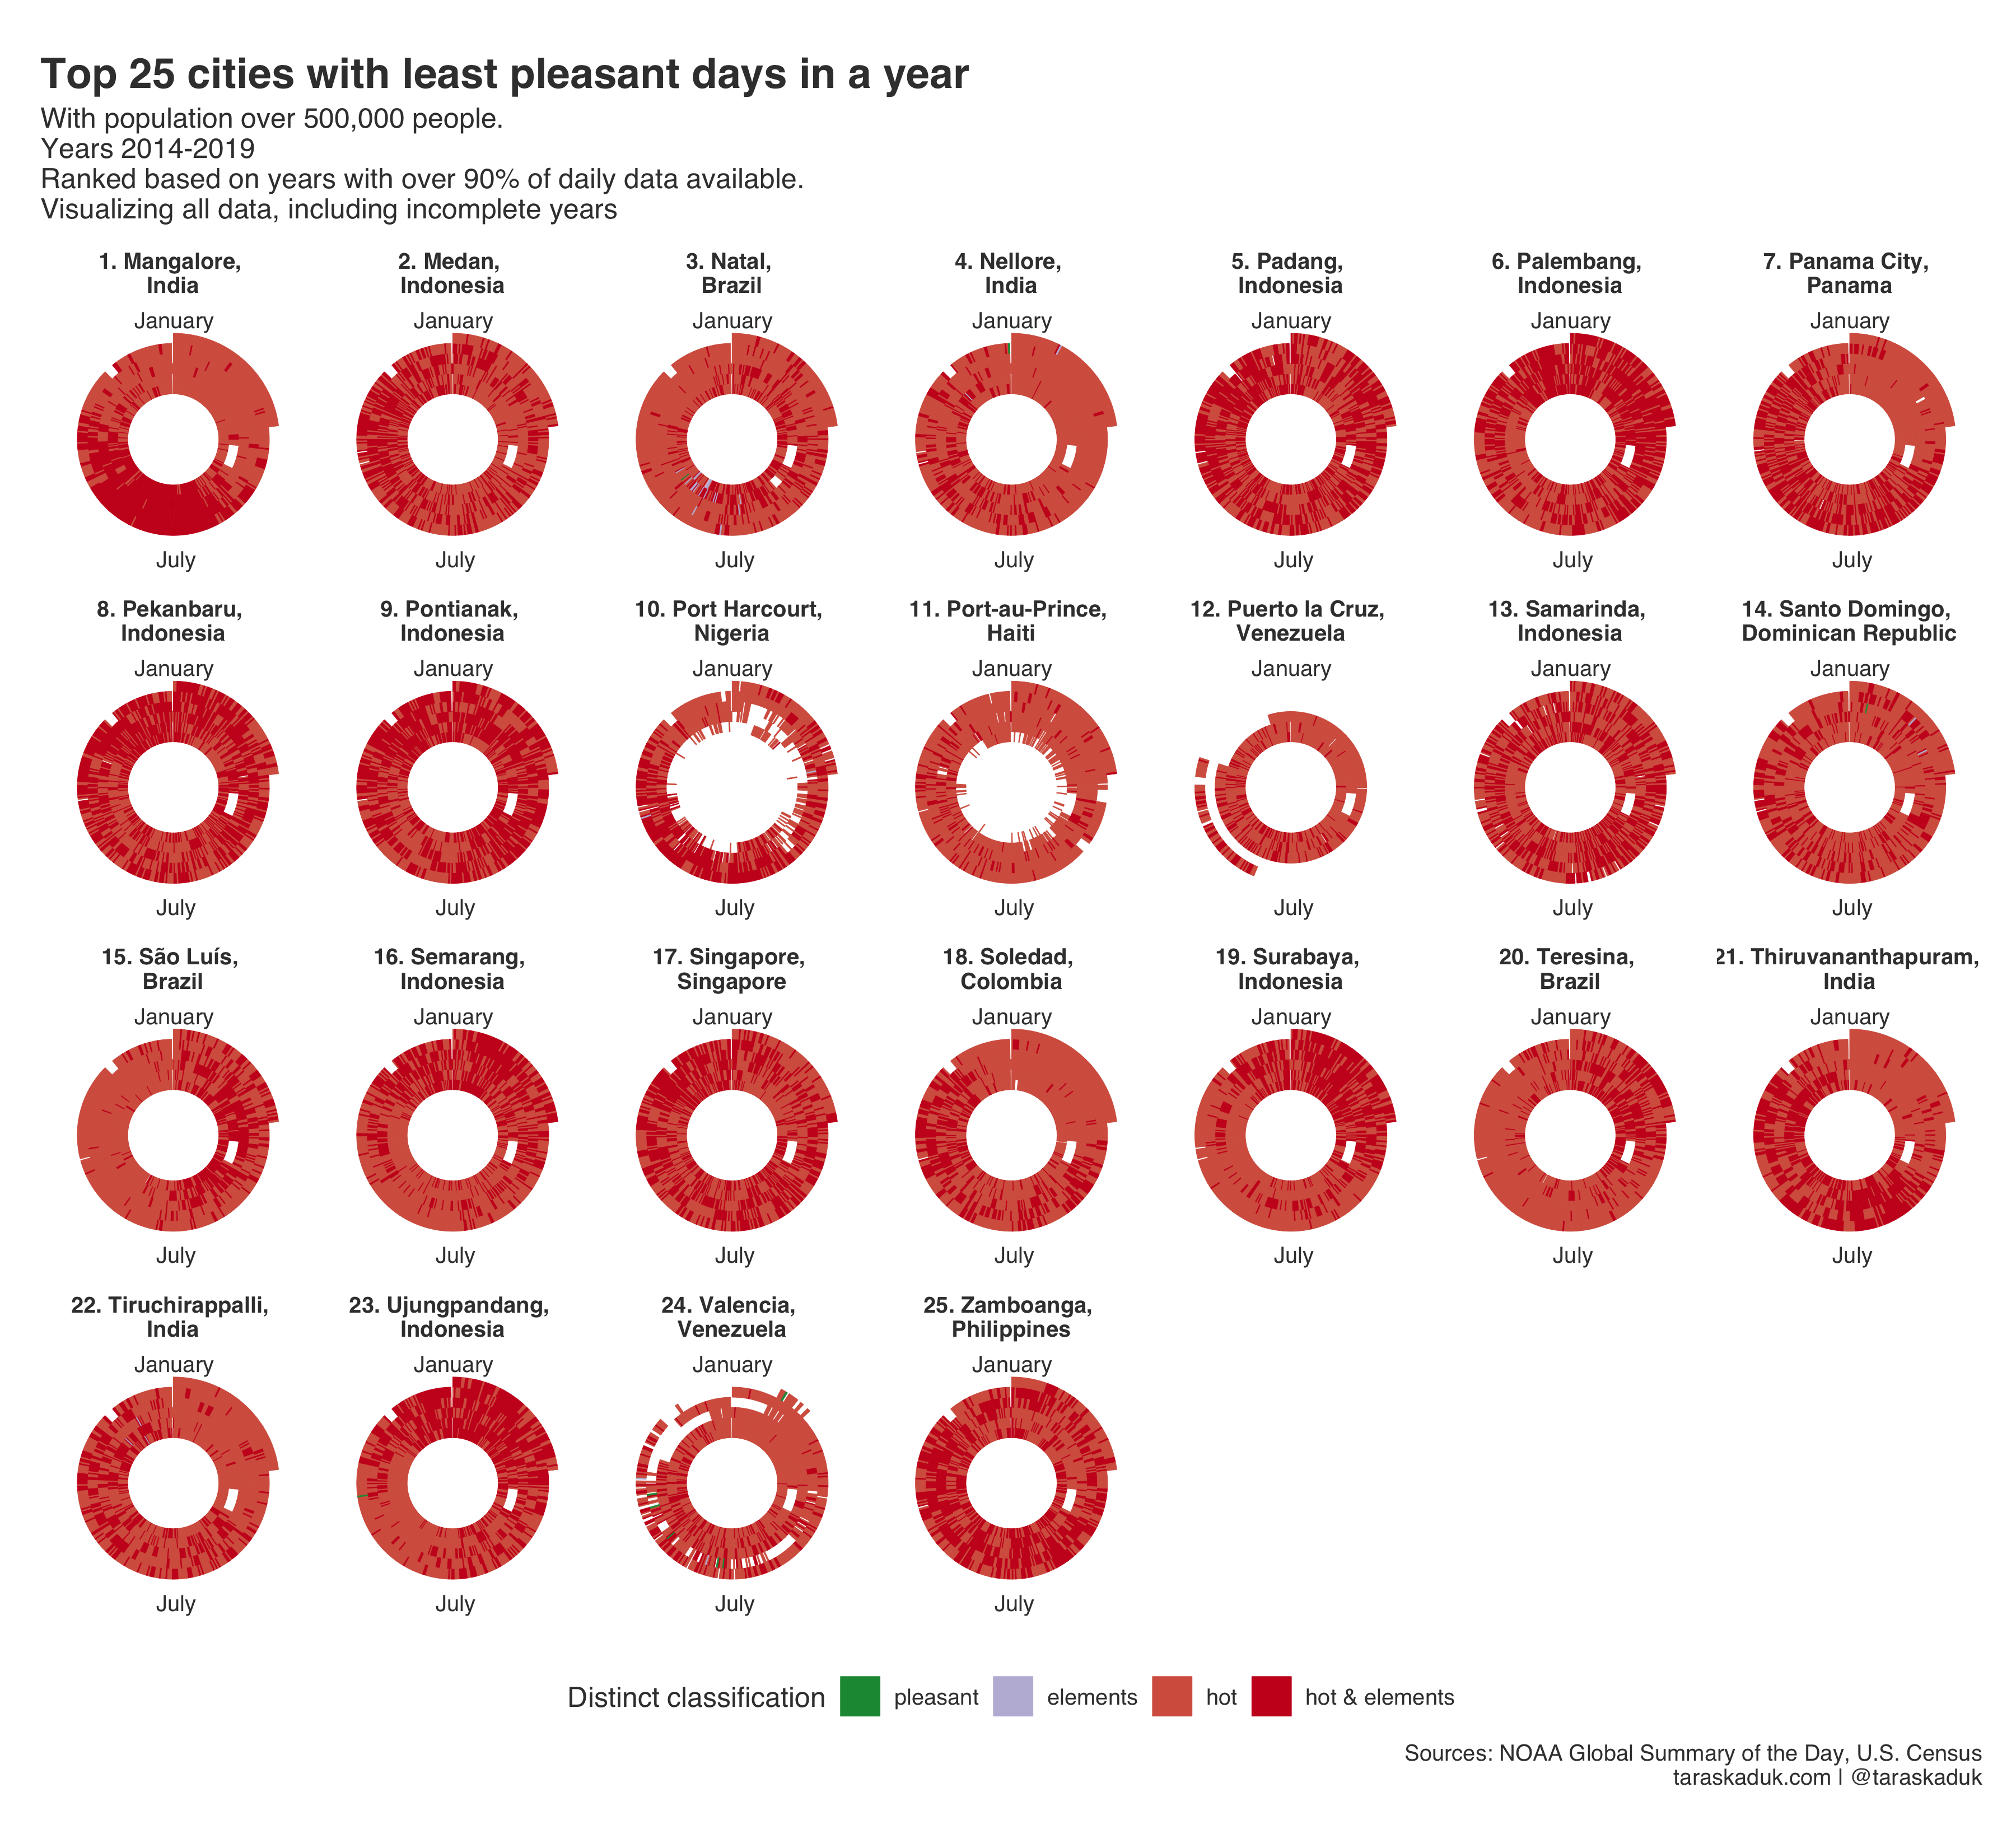

The dashboard page shown, as its layout file describes it:
{"tool":"tableau","page":{"name":"Radial Stack Bar Charts","canvas":[900,800],"ordinal":0},"visuals":[{"type":"worksheet","title":"radial stacked bar","mark":"Polygon","box":[0,0,796,800]},{"type":"legend","title":"radial stacked bar","param":"[federated.0d4brrl0id6ggj1ffol9q0xiccq4].[none:Calculation_4518799278402621453:n","box":[796,0,104,90]},{"type":"parameter","param":"[Parameters].[Parameter 4]","box":[796,90,104,52]},{"type":"parameter","param":"[Parameters].[Parameter 1]","box":[796,142,104,52]},{"type":"parameter","param":"[Parameters].[Parameter 2]","box":[796,194,104,52]},{"type":"parameter","param":"[Parameters].[Parameter 3]","box":[796,246,104,52]},{"type":"worksheet","title":"social","mark":"Shape","cols":["Platform"],"box":[840,770,60,30]}]}

Visuals, with their boxes on the page's 900x800 design canvas (x1, y1, x2, y2). These are canvas units, not pixel positions in the 2016x1848 screenshot, which may show the page scaled, cropped or inside an application window:
"radial stacked bar" worksheet (Polygon marks): {"left": 0, "top": 0, "right": 796, "bottom": 800}
"radial stacked bar" legend: {"left": 796, "top": 0, "right": 900, "bottom": 90}
parameter: {"left": 796, "top": 90, "right": 900, "bottom": 142}
parameter: {"left": 796, "top": 142, "right": 900, "bottom": 194}
parameter: {"left": 796, "top": 194, "right": 900, "bottom": 246}
parameter: {"left": 796, "top": 246, "right": 900, "bottom": 298}
"social" worksheet (Shape marks): {"left": 840, "top": 770, "right": 900, "bottom": 800}
